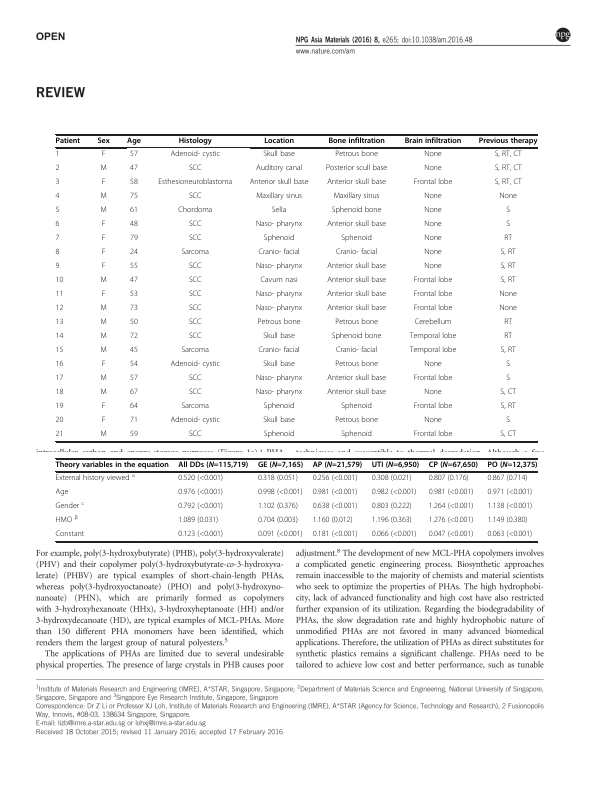borderless: (54, 133, 537, 441), (54, 457, 537, 541)
cell: (55, 461, 170, 470), (54, 472, 136, 484), (157, 178, 233, 188), (177, 461, 249, 470), (325, 164, 388, 174), (326, 178, 387, 188), (326, 220, 387, 230), (326, 262, 387, 272), (326, 276, 387, 286), (326, 290, 387, 300), (326, 304, 387, 314), (326, 374, 387, 384), (326, 388, 387, 398), (249, 178, 309, 188), (478, 137, 538, 146), (327, 137, 386, 146), (404, 137, 462, 146), (169, 150, 221, 160), (169, 360, 221, 370), (169, 416, 221, 426), (331, 206, 382, 216), (331, 332, 382, 342), (255, 164, 303, 174), (255, 192, 303, 202), (255, 220, 303, 230), (255, 262, 303, 272), (255, 290, 303, 300), (255, 304, 303, 314), (409, 332, 457, 342), (409, 346, 457, 356), (255, 374, 303, 384), (255, 388, 303, 398), (177, 474, 224, 484), (177, 488, 224, 498), (486, 488, 533, 498), (177, 502, 224, 512), (486, 502, 533, 512), (177, 530, 224, 540), (486, 530, 533, 540), (333, 192, 380, 202), (486, 461, 538, 470), (312, 474, 358, 484), (257, 488, 303, 498), (312, 488, 358, 498), (371, 488, 417, 498), (428, 488, 474, 498), (312, 502, 358, 512), (428, 502, 474, 512), (428, 516, 474, 526), (257, 530, 303, 540), (312, 530, 358, 540), (371, 530, 417, 540), (428, 530, 474, 540), (312, 461, 363, 470), (428, 461, 479, 470), (334, 150, 379, 160), (334, 318, 379, 328), (334, 360, 379, 370), (334, 416, 379, 426), (371, 461, 420, 470), (257, 248, 301, 258), (257, 318, 301, 328), (257, 346, 301, 356), (335, 248, 378, 258), (335, 346, 378, 356), (257, 461, 304, 470), (257, 474, 299, 484), (371, 474, 413, 484), (428, 474, 470, 484), (486, 474, 528, 484), (257, 502, 299, 512), (371, 502, 413, 512), (177, 516, 219, 526), (257, 516, 299, 526), (371, 516, 413, 526), (486, 516, 528, 526), (312, 516, 353, 526), (413, 178, 453, 188), (259, 276, 299, 286), (413, 276, 453, 286), (413, 290, 453, 300), (413, 304, 453, 314), (413, 374, 453, 384), (413, 402, 453, 412), (413, 430, 453, 440), (414, 318, 452, 328), (55, 500, 85, 512), (177, 206, 213, 216), (262, 150, 296, 160), (262, 332, 296, 342), (262, 360, 296, 370), (262, 416, 296, 426), (340, 234, 373, 244), (340, 402, 373, 412), (340, 430, 373, 440), (263, 234, 295, 244), (263, 402, 295, 412), (263, 430, 295, 440), (178, 137, 213, 146), (55, 530, 85, 540), (180, 248, 210, 258), (180, 346, 210, 356), (180, 402, 210, 412), (494, 150, 523, 160), (494, 164, 523, 174), (494, 178, 523, 188), (55, 514, 79, 526), (263, 137, 295, 146), (55, 137, 81, 146), (423, 150, 443, 160), (423, 164, 443, 174), (423, 192, 443, 202), (498, 192, 518, 202), (423, 206, 443, 216), (423, 220, 443, 230), (423, 234, 443, 244), (423, 248, 443, 258), (423, 262, 443, 272), (498, 290, 518, 300), (498, 304, 518, 314), (423, 360, 443, 370), (423, 388, 443, 398), (423, 416, 443, 426), (499, 388, 517, 398), (499, 430, 517, 440), (500, 248, 517, 258), (500, 262, 517, 272), (500, 276, 517, 286), (500, 346, 517, 356), (500, 402, 517, 412), (271, 206, 287, 216), (126, 137, 142, 146), (55, 488, 69, 498), (188, 164, 202, 174), (188, 192, 202, 202), (188, 220, 202, 230), (188, 234, 202, 244), (188, 262, 202, 272), (188, 276, 202, 286), (188, 290, 202, 300), (188, 304, 202, 314), (188, 318, 202, 328), (188, 332, 202, 342), (188, 374, 202, 384), (188, 388, 202, 398), (188, 430, 202, 440), (96, 137, 111, 146), (129, 150, 139, 160), (129, 164, 139, 174), (129, 178, 139, 188), (129, 192, 139, 202), (129, 206, 139, 216), (129, 220, 139, 230), (129, 234, 139, 244), (503, 234, 513, 244), (129, 248, 139, 258), (129, 262, 139, 272), (129, 276, 139, 286), (129, 290, 139, 300), (129, 304, 139, 314), (129, 318, 139, 328), (503, 318, 513, 328), (129, 332, 139, 342), (503, 332, 513, 342), (129, 346, 139, 356), (129, 360, 139, 370), (129, 374, 139, 384), (129, 388, 139, 398), (129, 402, 139, 412), (129, 416, 139, 426), (129, 430, 139, 440), (99, 164, 108, 174), (99, 192, 108, 202), (99, 206, 108, 216), (55, 276, 64, 286), (99, 276, 108, 286), (55, 290, 64, 300), (55, 304, 64, 314), (99, 304, 108, 314), (55, 318, 64, 328), (99, 318, 108, 328), (55, 332, 64, 342), (99, 332, 108, 342), (55, 346, 64, 356), (99, 346, 108, 356), (55, 360, 64, 370), (55, 374, 64, 384), (99, 374, 108, 384), (55, 388, 64, 398), (99, 388, 108, 398), (55, 402, 64, 412), (55, 416, 64, 426), (55, 430, 64, 440), (99, 430, 108, 440), (505, 206, 511, 216), (505, 220, 511, 230), (505, 360, 511, 370), (505, 374, 511, 384), (505, 416, 511, 426), (55, 150, 60, 160), (101, 150, 106, 160), (55, 164, 60, 174), (55, 178, 60, 188), (101, 178, 106, 188), (55, 192, 60, 202), (55, 206, 60, 216), (55, 220, 60, 230), (101, 220, 106, 230), (55, 234, 60, 244), (101, 234, 106, 244), (55, 248, 60, 258), (101, 248, 106, 258), (55, 262, 60, 272), (101, 262, 106, 272), (101, 290, 106, 300), (101, 360, 106, 370), (101, 402, 106, 412), (101, 416, 106, 426)
